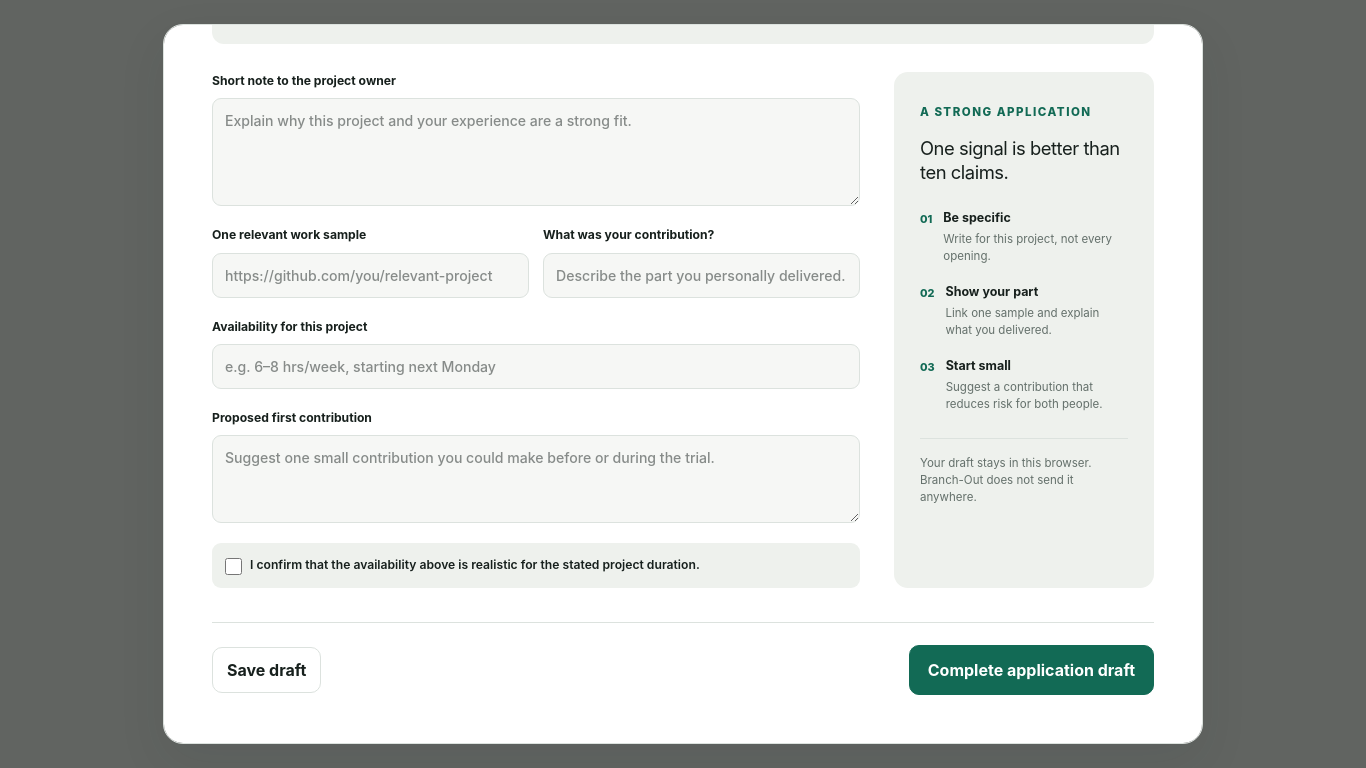
Test: ProofApplicationPanel › shows validation errors without completing an empty draft
This screenshot has width=1366, height=768.
(page scrolled)
Click the button "Complete application draft": (1031, 670) [909,645,1154,695]
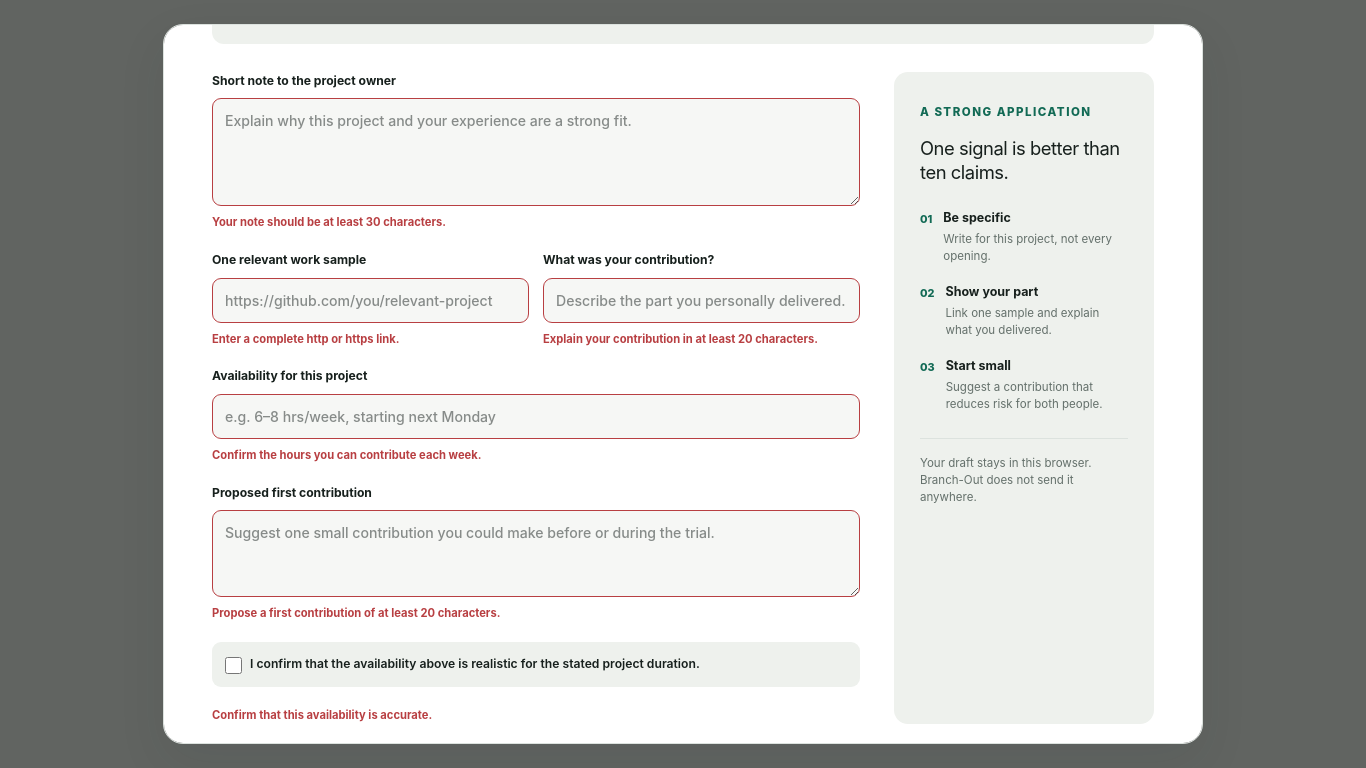
Result: the text "Your note should be at least 30 characters." is shown at [212,216,446,230]
